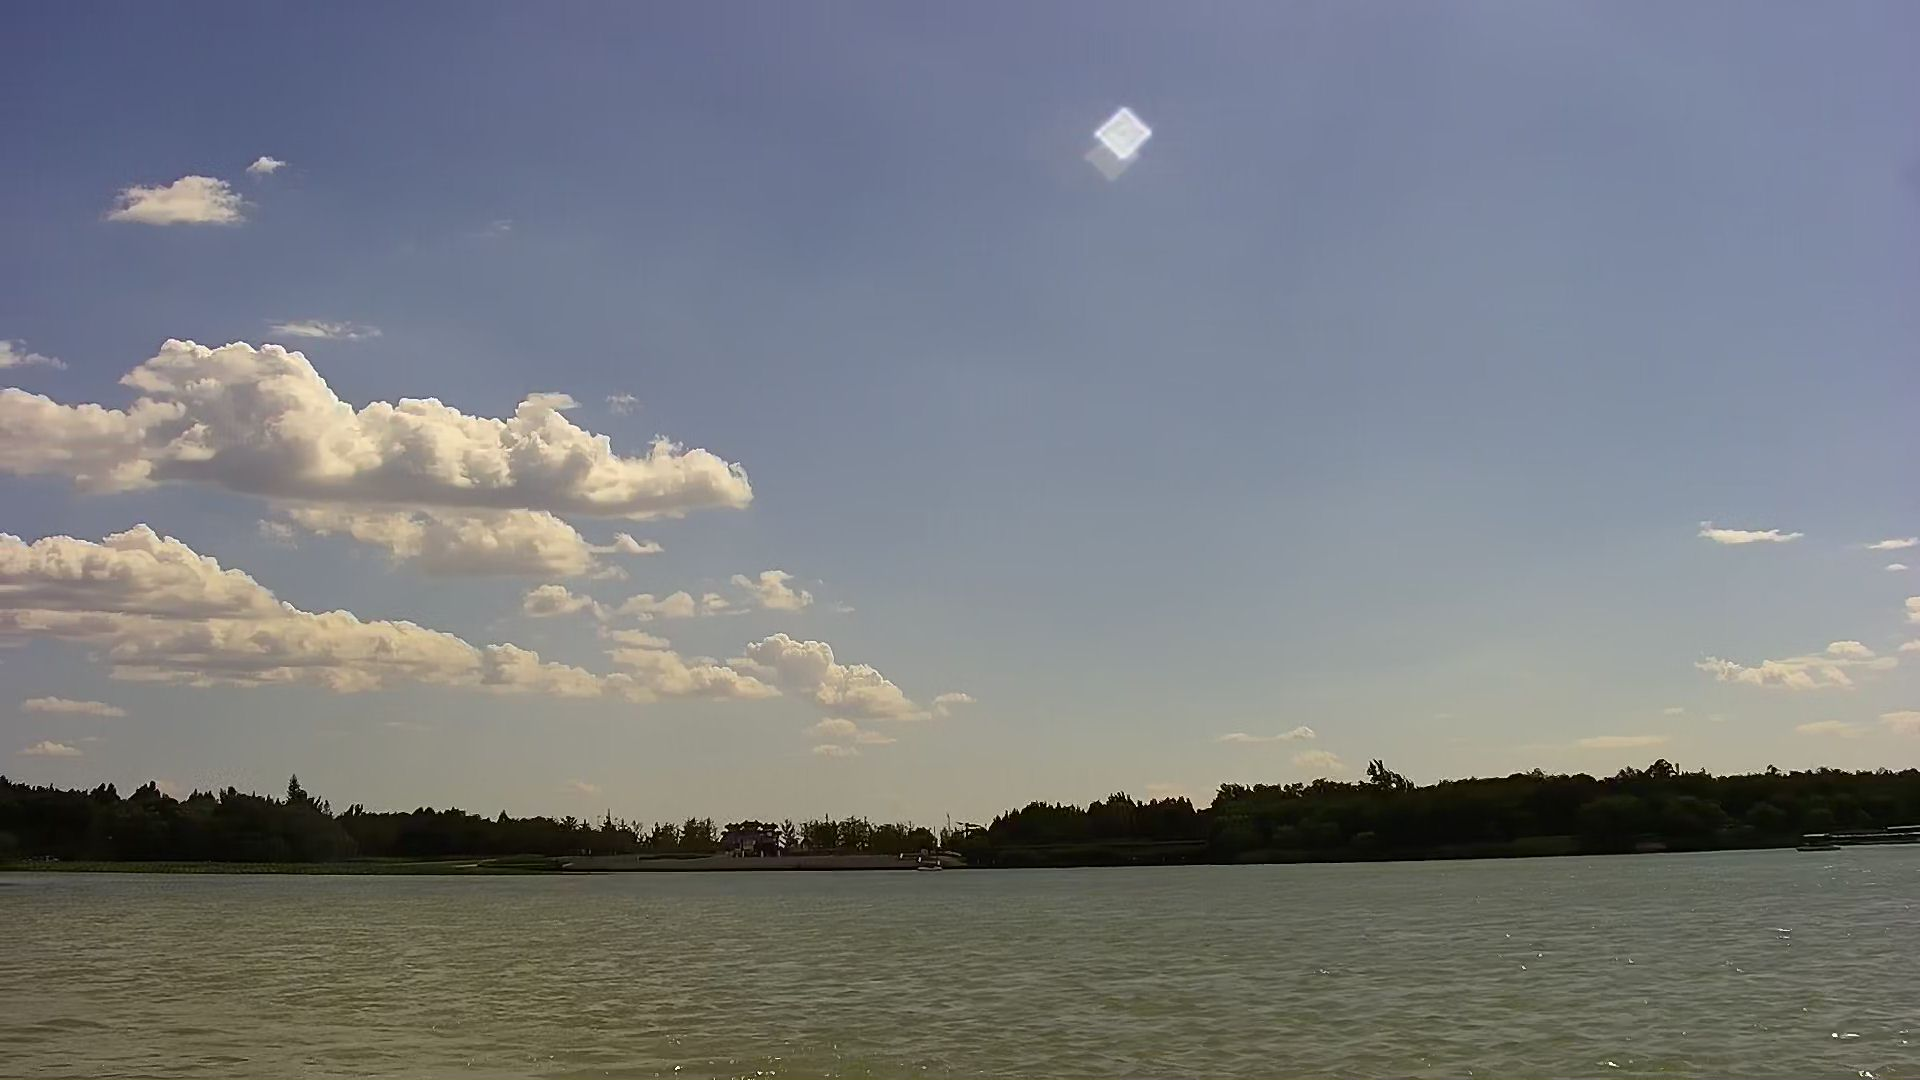boat: (1800, 829, 1836, 847)
